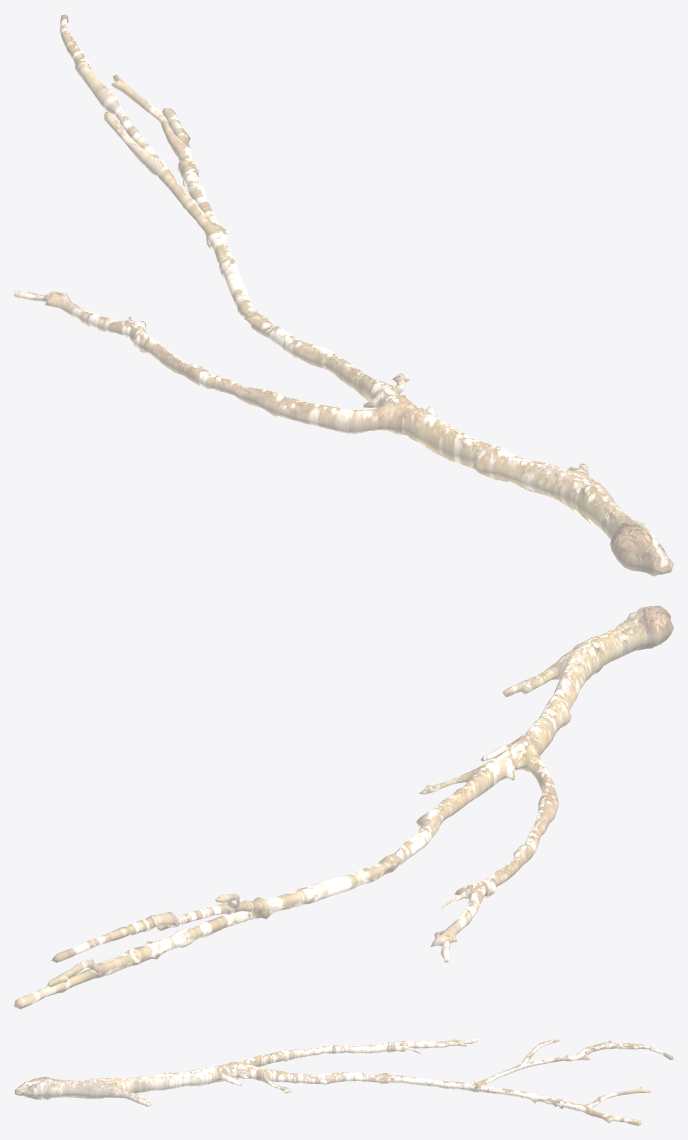
The model's file is TreeBranch.glb.
3 views of the same model, one above another, from view 1: azimuth 30°, elevation 25°; view 2: azimuth 150°, elevation 25°; view 3: azimuth 270°, elevation 25° (orthographic). The views are drawn at different scales.
Parts seen in each view (by area): view 1: bough; view 2: bough; view 3: bough.
Boxes of the visible parts, x1,y1,x2,y2 form: bough: (14, 14, 673, 576); bough: (14, 605, 673, 1009); bough: (14, 1038, 673, 1125).
Bounding box in the file's own units: 0.46 × 0.15 × 1.6.
Materials: 1 (1 with a texture image).
